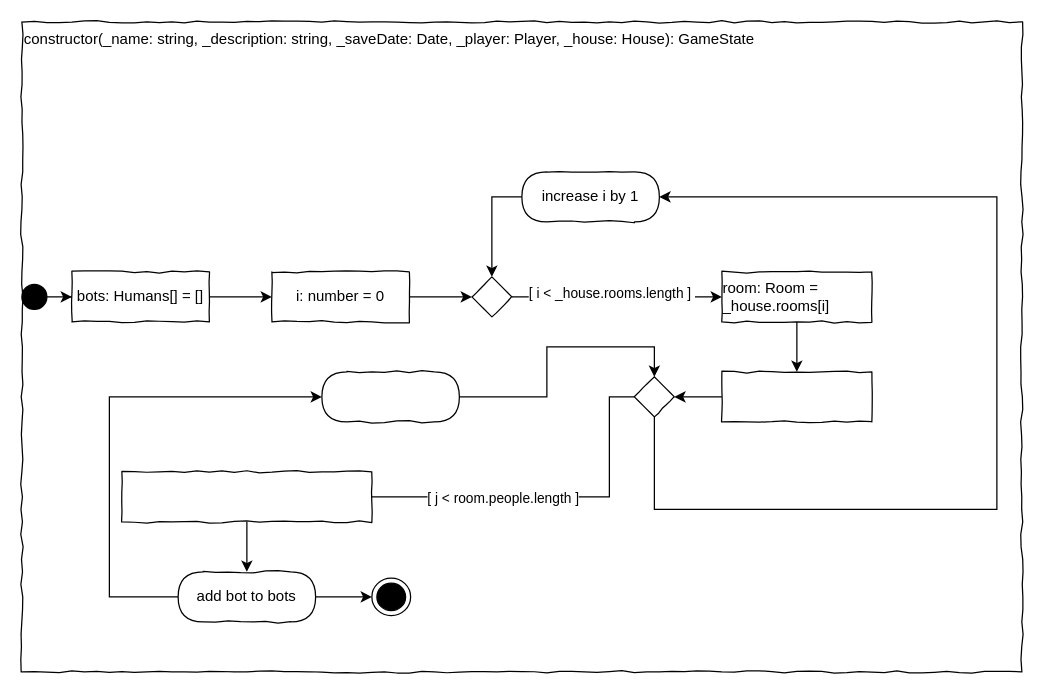
This 1044x694 diagram has some shape labels left out. The shapes that lost their labels are listed below. From the top down, each one's centre as x and y in pixels, then its label:
At pixel 390 396: "increase j by 1".
At pixel 796 396: "j: number = 0".
At pixel 246 496: "bot: Human = room.people[j]".
